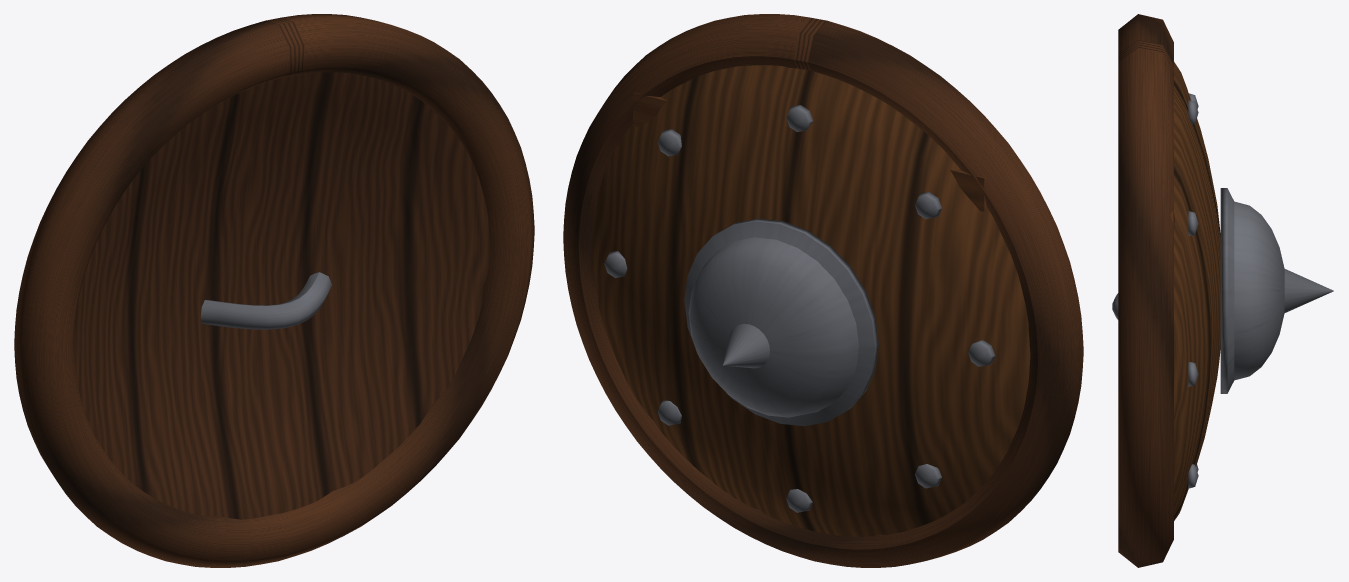
The model's file is OakBuckler.glb.
The picture shows the model from 3 angles, left to right: view 1: azimuth 30°, elevation 25°; view 2: azimuth 150°, elevation 25°; view 3: azimuth 270°, elevation 25°; orthographic projection. The views are drawn at different scales.
Visible parts, largest first — view 1: OakBuckler; view 2: OakBuckler; view 3: OakBuckler.
Boxes of the visible parts, left/top/right/bottom form: OakBuckler: left=14, top=14, right=534, bottom=567; OakBuckler: left=563, top=14, right=1083, bottom=567; OakBuckler: left=1112, top=14, right=1333, bottom=567.
Bounding box in the file's own units: 1.61 × 1.61 × 0.6432.
1 material, 1 textured.
